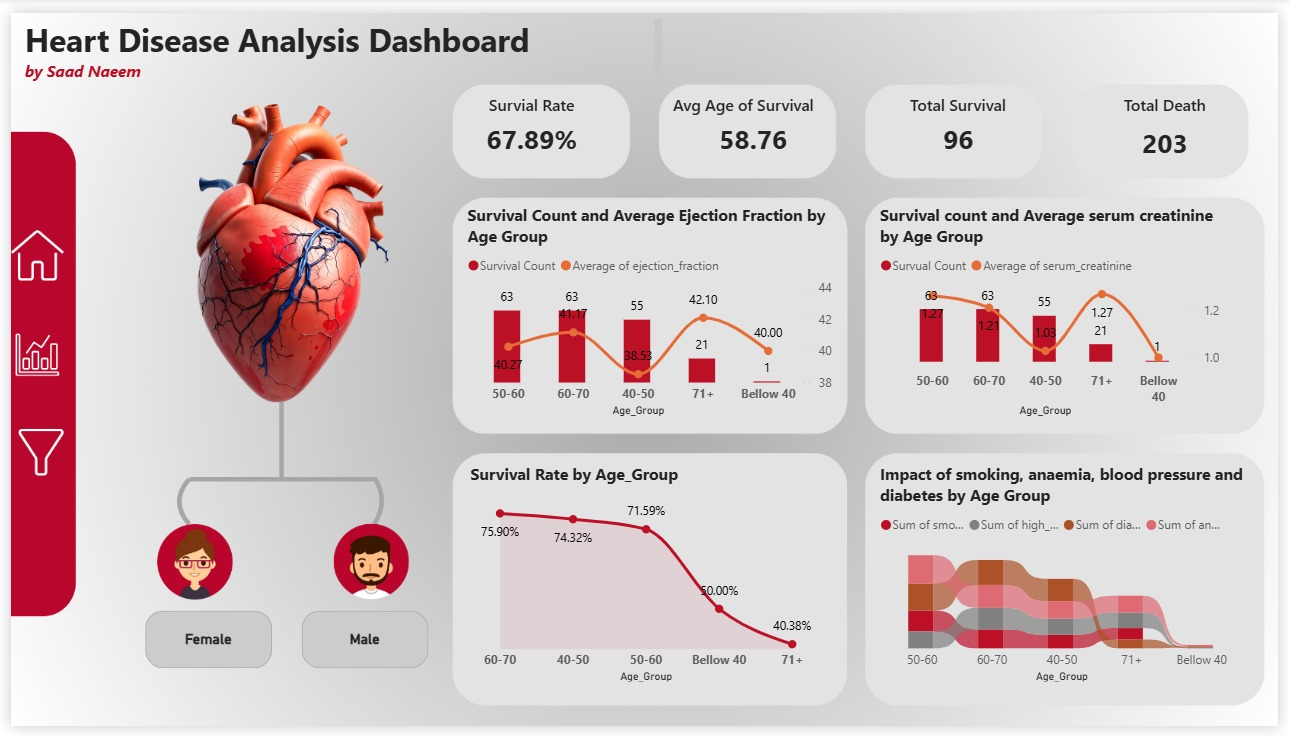

This screenshot's page, from the dashboard's own definition file:
{"tool":"powerbi","page":{"name":"Page 1","canvas":[1280,720],"ordinal":0},"visuals":[{"type":"textbox","box":[9.5,0,653.7,73.2],"z":0},{"type":"card","title":"Survial Rate","fields":{"Values":["heart_Disease_clinical_records_.Survival Rate"]},"box":[443.8,81.1,163.8,70],"z":1000},{"type":"card","title":"Avg Age of Survival","fields":{"Values":["heart_Disease_clinical_records_.Average_Age_Survival"]},"box":[663.3,81.1,171.8,70],"z":2000},{"type":"card","title":"Total Death","fields":{"Values":["heart_Disease_clinical_records_.Total_Surviour"]},"box":[1080,81.1,170.2,77.9],"z":3000},{"type":"card","title":"Total Survival","fields":{"Values":["heart_Disease_clinical_records_.Total_Death"]},"box":[849.4,81.1,213.1,70],"z":4000},{"type":"lineClusteredColumnComboChart","title":"Survival count and Average serum creatinine by Age Group","fields":{"Category":["heart_Disease_clinical_records_.Age_Group"],"Y":["CountNonNull(heart_Disease_clinical_records_.DEATH_EVENT)"],"Y2":["Avg(heart_Disease_clinical_records_.serum_creatinine)"]},"box":[873.2,192.5,354.7,219.5],"z":5000},{"type":"lineClusteredColumnComboChart","title":"Survival Count and Average Ejection Fraction by Age Group","fields":{"Category":["heart_Disease_clinical_records_.Age_Group"],"Y":["CountNonNull(heart_Disease_clinical_records_.DEATH_EVENT)"],"Y2":["Avg(heart_Disease_clinical_records_.ejection_fraction)"]},"box":[456.5,192.5,378.6,219.5],"z":6000},{"type":"lineChart","fields":{"Y":["heart_Disease_clinical_records_.Survival Rate"],"Category":["heart_Disease_clinical_records_.Age_Group"]},"box":[459.7,454.9,364.2,225.9],"z":7000},{"type":"ribbonChart","title":"Impact of smoking, anaemia, blood pressure and diabetes by Age Group ","fields":{"Category":["heart_Disease_clinical_records_.Age_Group"],"Y":["Sum(heart_Disease_clinical_records_.smoking)","Sum(heart_Disease_clinical_records_.high_blood_pressure)","Sum(heart_Disease_clinical_records_.diabetes)","Sum(heart_Disease_clinical_records_.anaemia)"]},"box":[873.2,454.9,377,225.9],"z":8000},{"type":"advancedSlicerVisual","fields":{"Values":["heart_Disease_clinical_records_.Gender"]},"box":[130.4,598.1,297.4,68.4],"z":9000}]}

Visuals, with their boxes in screenshot pixels (x1, y1, x2, y2), scaled from the page's 1280x720 canvas onto the 1289x736 screenshot:
textbox: 10,0,668,75
"Survial Rate" card: 447,83,612,154
"Avg Age of Survival" card: 668,83,841,154
"Total Death" card: 1088,83,1259,163
"Total Survival" card: 855,83,1070,154
"Survival count and Average serum creatinine by Age Group" lineClusteredColumnComboChart: 879,197,1237,421
"Survival Count and Average Ejection Fraction by Age Group" lineClusteredColumnComboChart: 460,197,841,421
lineChart - heart_Disease_clinical_records_.Survival Rate x heart_Disease_clinical_records_.Age_Group: 463,465,830,696
"Impact of smoking, anaemia, blood pressure and diabetes by Age Group " ribbonChart: 879,465,1259,696
advancedSlicerVisual - heart_Disease_clinical_records_.Gender: 131,611,431,681
